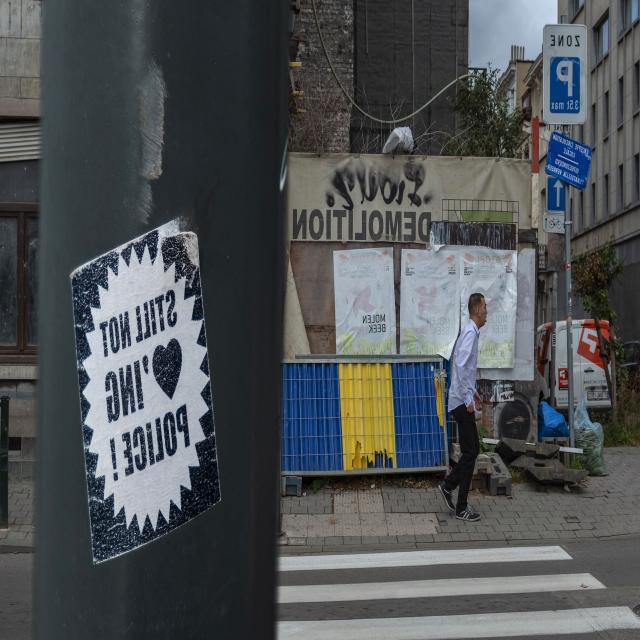adult: (432, 289, 493, 527)
